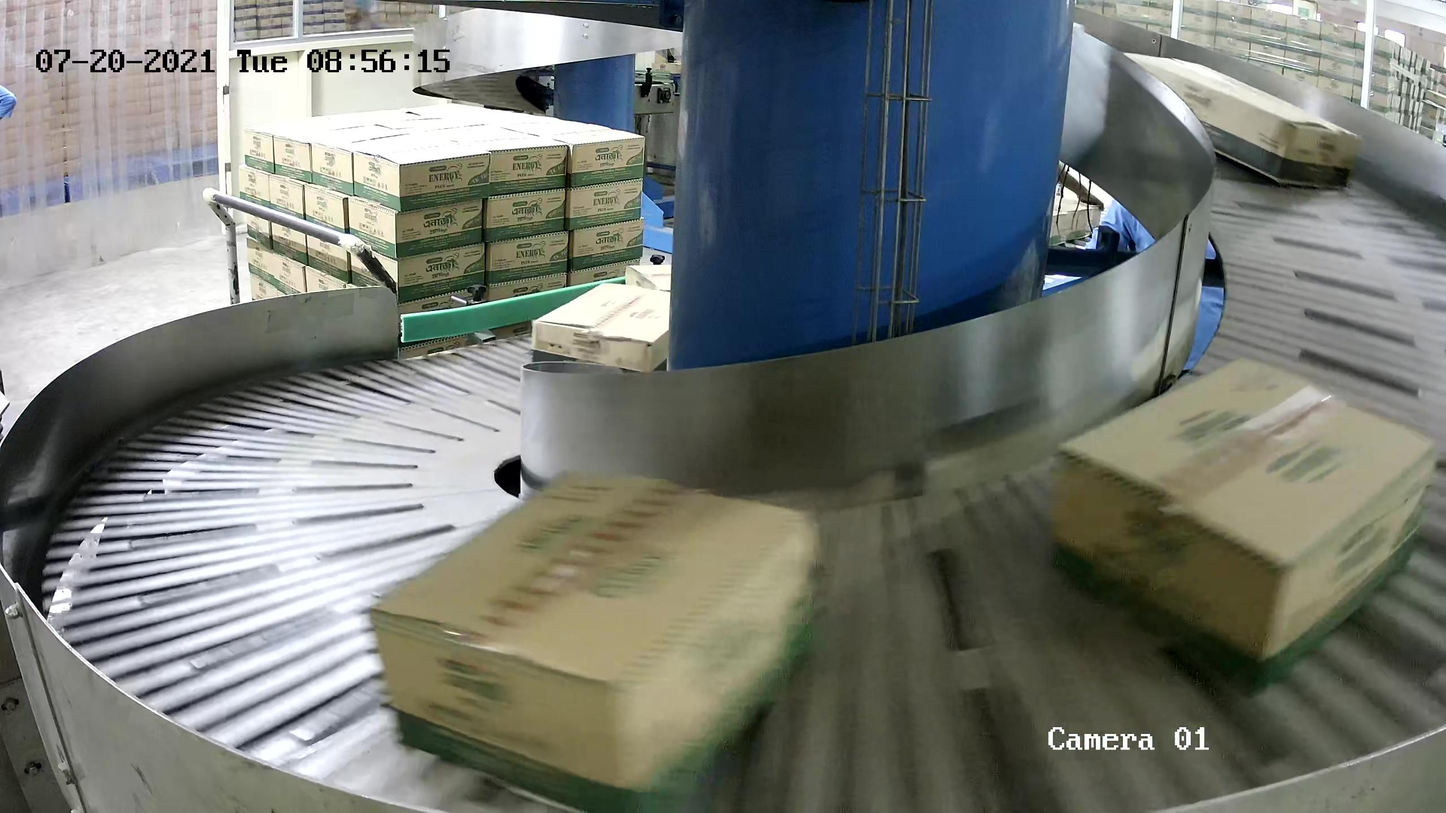Box: (365, 469, 826, 813), (1051, 353, 1438, 699), (1119, 50, 1360, 189), (530, 282, 671, 373)
